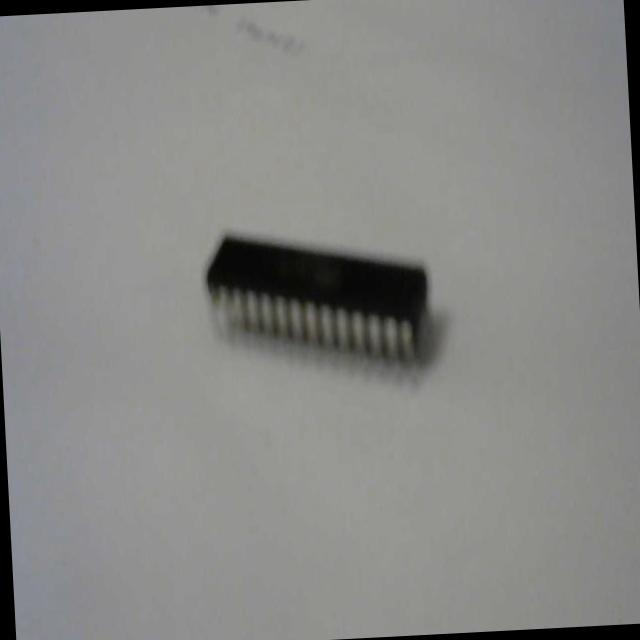atmega: (200, 216, 436, 381)
